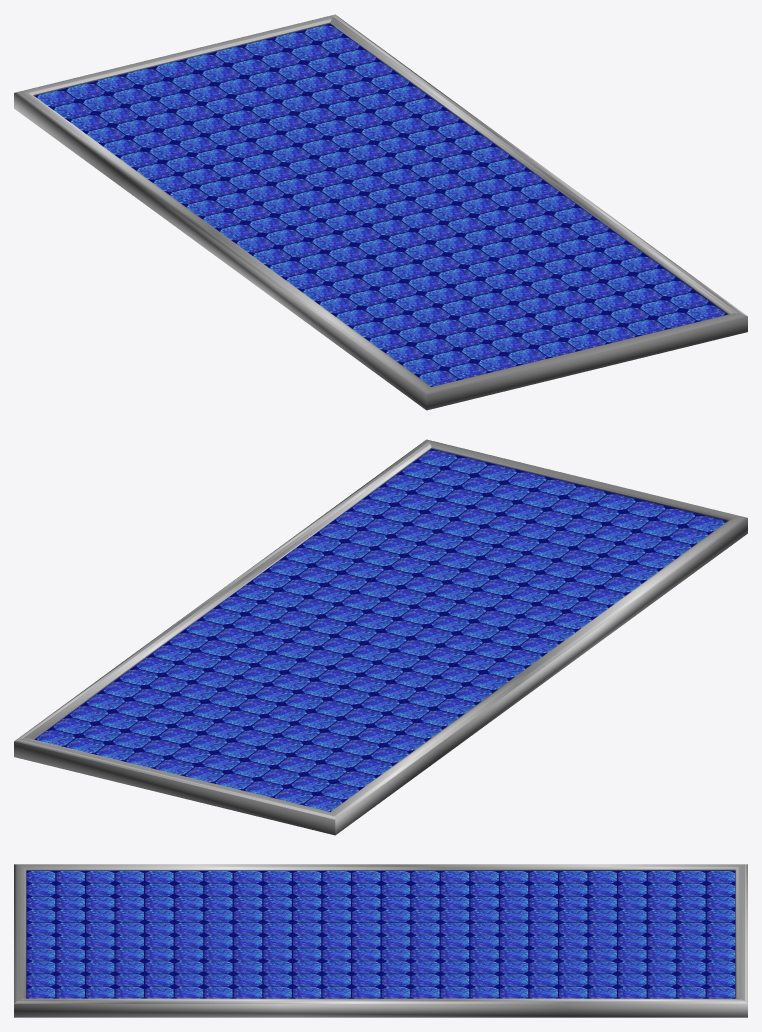
Rendered from solar_panel_140W.obj.
3 views of the same model, one above another, from view 1: azimuth 30°, elevation 25°; view 2: azimuth 150°, elevation 25°; view 3: azimuth 270°, elevation 25° (orthographic). The views are drawn at different scales.
Parts seen in each view (by area): view 1: 4_4, 3_3; view 2: 4_4, 3_3; view 3: 4_4, 3_3.
Part boxes in pixels (left/top/right/bottom): 4_4: left=34, top=23, right=727, bottom=386; 3_3: left=14, top=14, right=747, bottom=410; 4_4: left=34, top=448, right=727, bottom=811; 3_3: left=14, top=439, right=747, bottom=835; 4_4: left=26, top=870, right=735, bottom=998; 3_3: left=14, top=864, right=747, bottom=1017.
Size of the model in its own units: 66.8 by 3.5 by 149.
4 materials, 2 textured.
